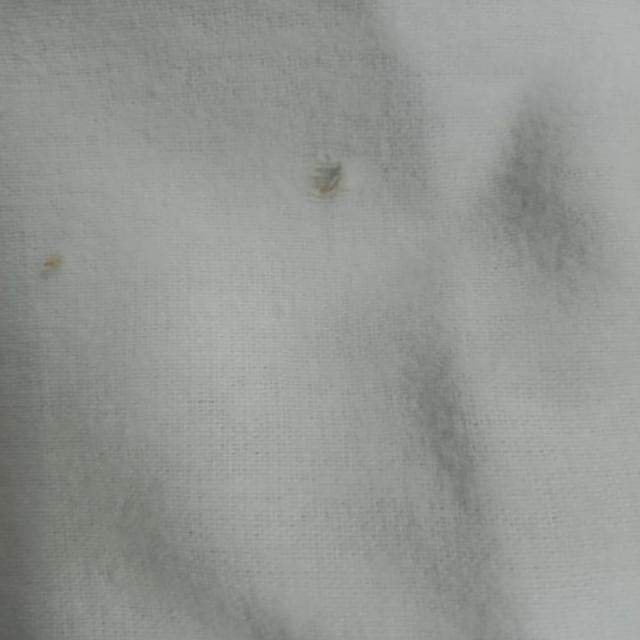cut: (309, 154, 348, 202)
